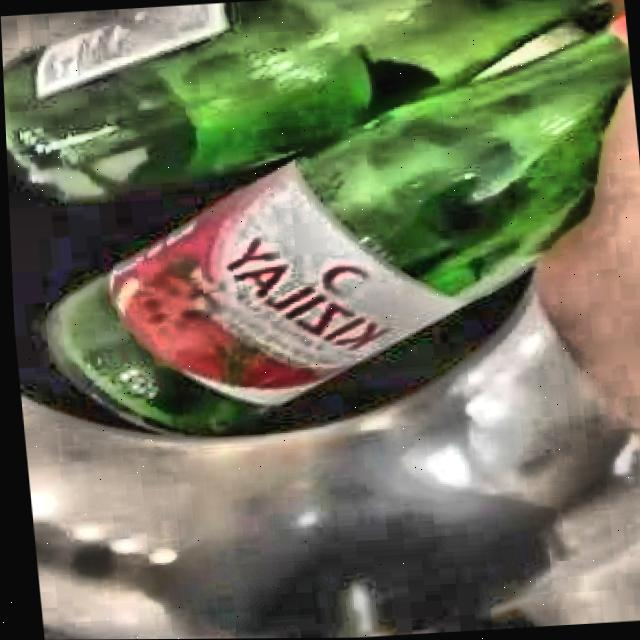glass: (2, 0, 631, 436)
